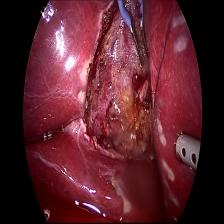Bipolar: (116, 2, 156, 72)
Irrigator: (170, 132, 207, 180)
